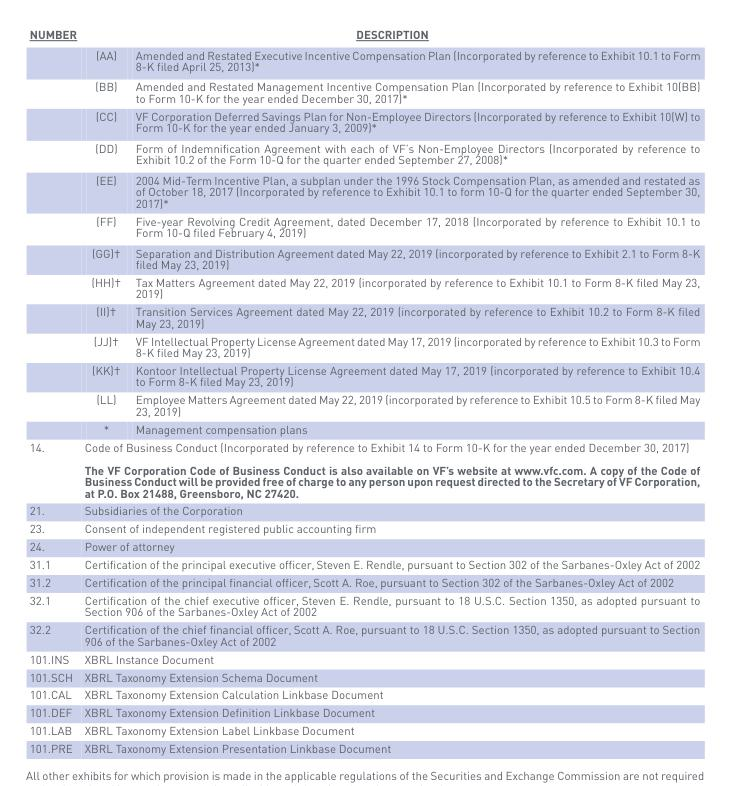table: (28, 29, 699, 754)
table column: (127, 29, 699, 754), (28, 29, 79, 754), (79, 29, 127, 754)
table column header: (28, 29, 699, 438)
table row: (28, 45, 699, 438), (28, 438, 699, 502), (28, 591, 699, 621), (28, 621, 699, 650), (28, 502, 699, 520), (28, 520, 699, 538), (28, 538, 699, 556), (28, 556, 699, 574), (28, 650, 699, 668), (28, 668, 699, 686), (28, 686, 699, 704), (28, 704, 699, 722), (28, 722, 699, 740), (28, 574, 699, 591), (28, 29, 699, 45), (28, 740, 699, 754)
table spanning cell: (79, 438, 699, 502), (28, 29, 79, 438), (79, 591, 699, 621), (79, 621, 699, 650), (79, 502, 699, 520), (79, 520, 699, 538), (79, 538, 699, 556), (79, 556, 699, 574), (79, 650, 699, 668), (79, 668, 699, 686), (79, 686, 699, 704), (79, 704, 699, 722), (79, 722, 699, 740), (79, 574, 699, 591), (79, 29, 699, 45), (79, 740, 699, 754)
